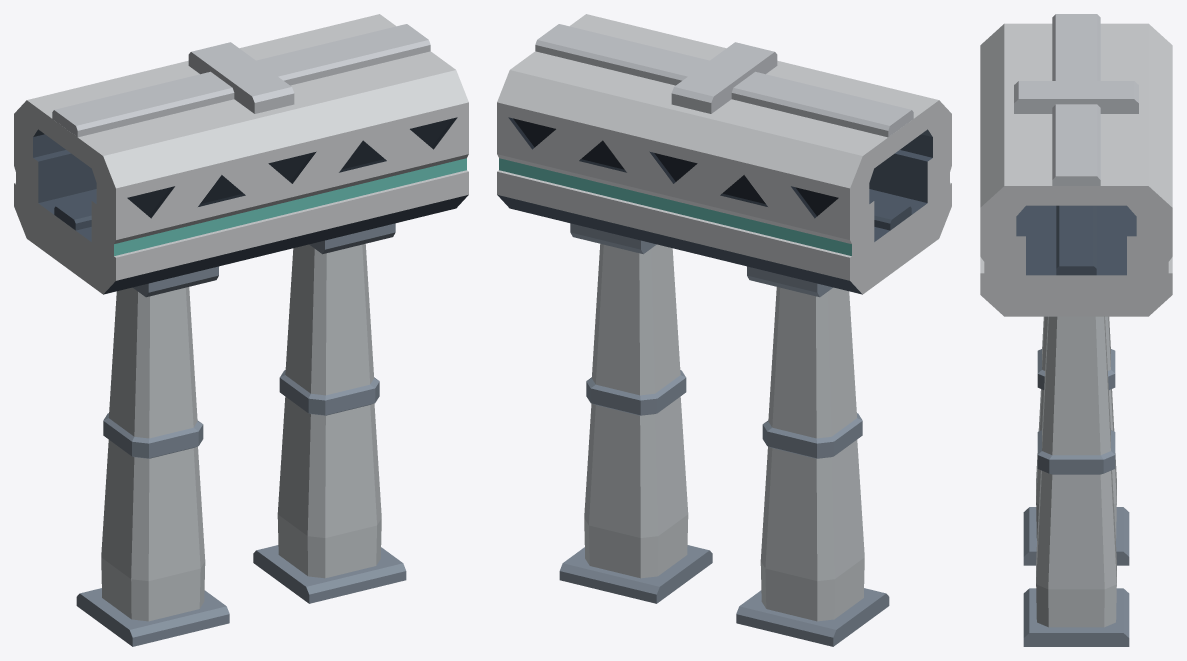
File: maglev-guideway-run-32118b.glb
The picture shows the model from 3 angles, left to right: view 1: azimuth 30°, elevation 25°; view 2: azimuth 150°, elevation 25°; view 3: azimuth 270°, elevation 25°; orthographic projection. The views are drawn at different scales.
Parts seen in each view (by area): view 1: maglev-guideway-run; view 2: maglev-guideway-run; view 3: maglev-guideway-run.
Part boxes in pixels (x1,y1,x2,y2): maglev-guideway-run: [14, 14, 468, 646]; maglev-guideway-run: [497, 14, 951, 646]; maglev-guideway-run: [980, 14, 1172, 646].
Bounding box in the file's own units: 8 × 11.34 × 4.
